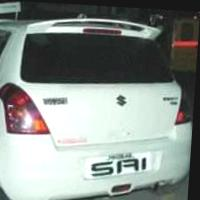License_Plate: (81, 147, 158, 184)
